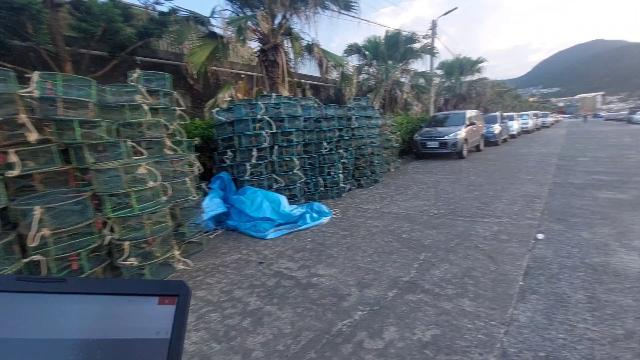pollute: (186, 168, 337, 241)
